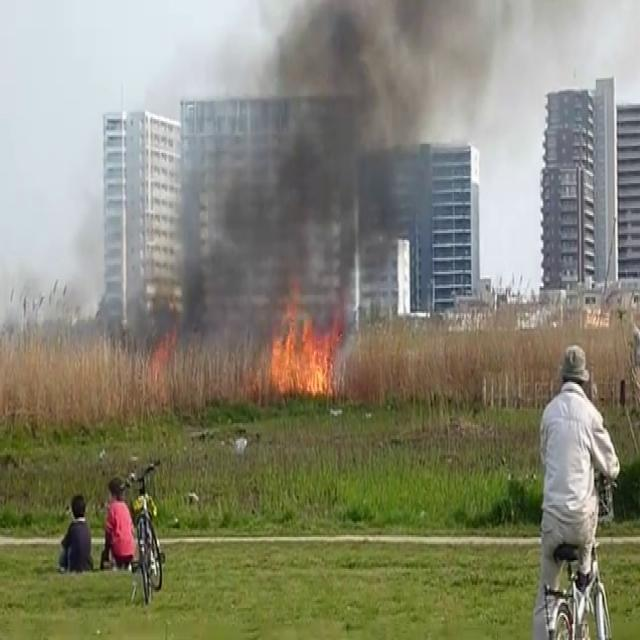Fire: (262, 292, 342, 404)
Smoke: (164, 0, 450, 356)
